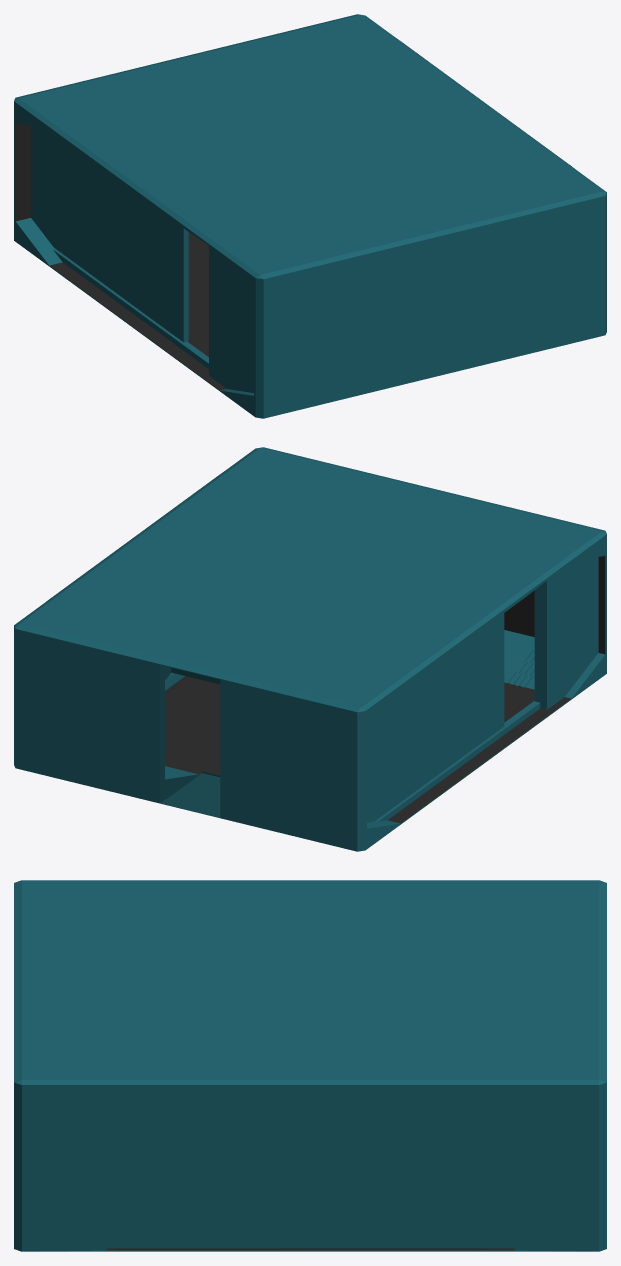
File: room2.fbx
The picture shows the model from 3 angles, top to bottom: view 1: azimuth 30°, elevation 25°; view 2: azimuth 150°, elevation 25°; view 3: azimuth 270°, elevation 25°; orthographic projection. The views are drawn at different scales.
Visible parts, largest first — view 1: Cube.016; view 2: Cube.016; view 3: Cube.016.
Boxes of the visible parts, box(x1,y1,x2,y2) form: Cube.016: box(14, 14, 606, 418); Cube.016: box(14, 447, 606, 851); Cube.016: box(14, 880, 606, 1251).
Bounding box in the file's own units: 4084 × 1590 × 4993.
